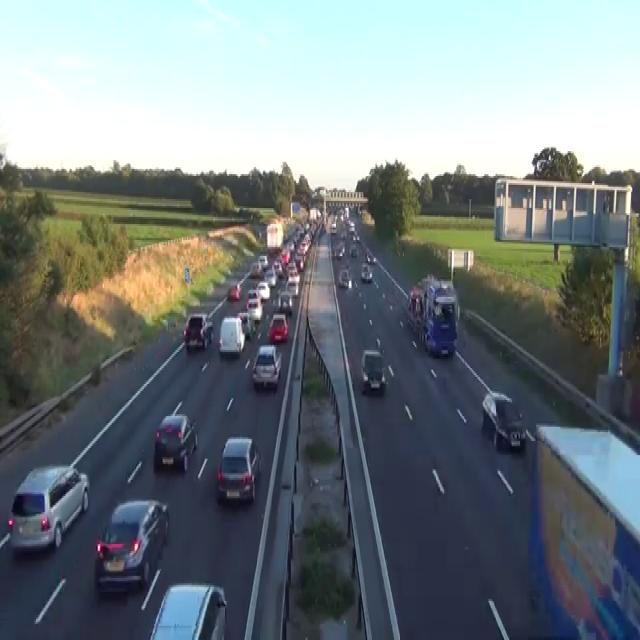Car: (7, 462, 90, 553), (94, 498, 169, 594), (148, 582, 227, 638), (216, 436, 261, 503), (481, 391, 526, 450), (154, 413, 197, 471), (424, 302, 456, 358), (251, 343, 281, 391), (360, 349, 386, 391), (182, 313, 213, 348), (218, 316, 245, 356), (267, 313, 288, 343), (236, 311, 255, 340), (409, 286, 423, 315), (246, 297, 262, 322), (278, 292, 292, 314), (246, 288, 259, 311), (286, 275, 299, 297), (338, 268, 352, 288), (256, 281, 270, 300), (227, 282, 241, 300), (360, 263, 372, 283), (249, 262, 263, 278), (333, 242, 345, 260), (264, 268, 276, 286), (287, 263, 299, 281), (273, 260, 283, 278), (295, 252, 305, 270), (257, 220, 266, 238), (258, 254, 268, 270), (280, 249, 290, 265), (247, 288, 259, 300), (298, 240, 308, 254), (350, 245, 358, 258), (330, 222, 337, 235), (348, 220, 355, 233), (272, 293, 279, 306), (366, 253, 375, 263), (352, 233, 360, 242), (340, 226, 346, 238), (366, 253, 370, 263)
Truck: (527, 423, 639, 638), (406, 276, 460, 358), (266, 220, 283, 252)
